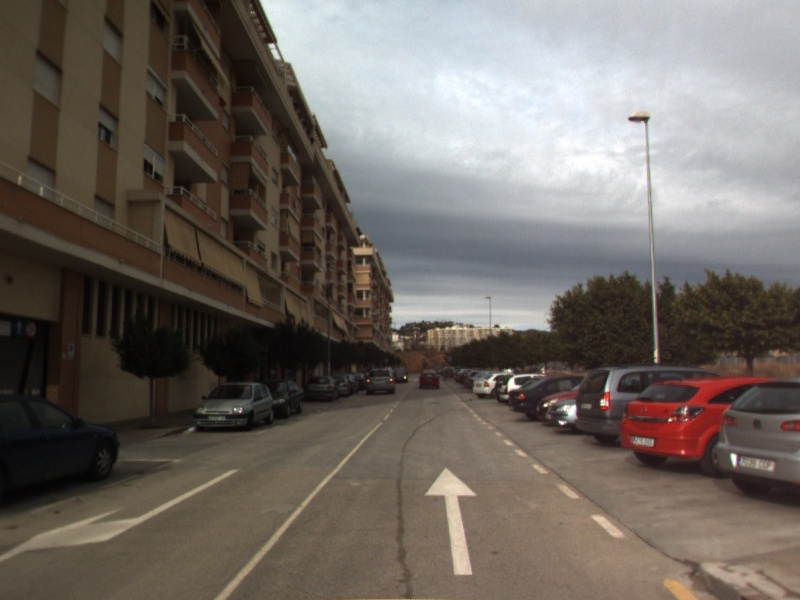STRAIGHT: (422, 465, 480, 577)
